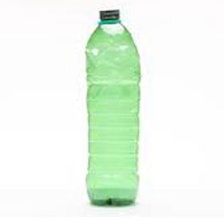bottle: (81, 6, 146, 209)
